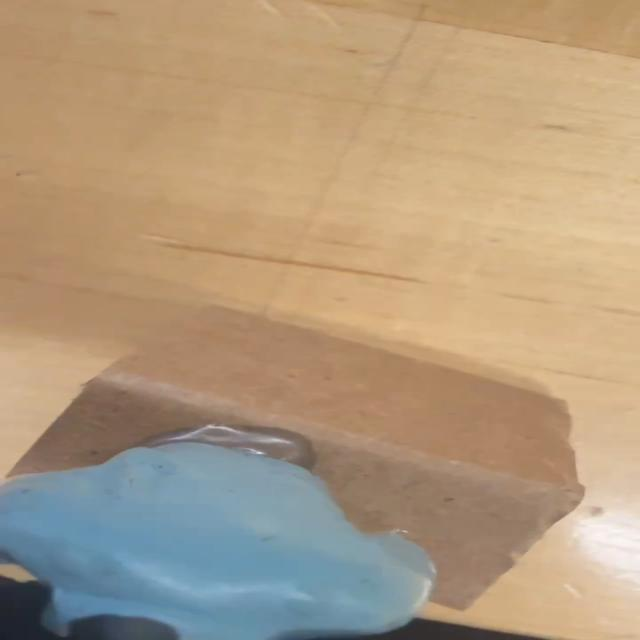Authorized: (3, 425, 440, 639)
